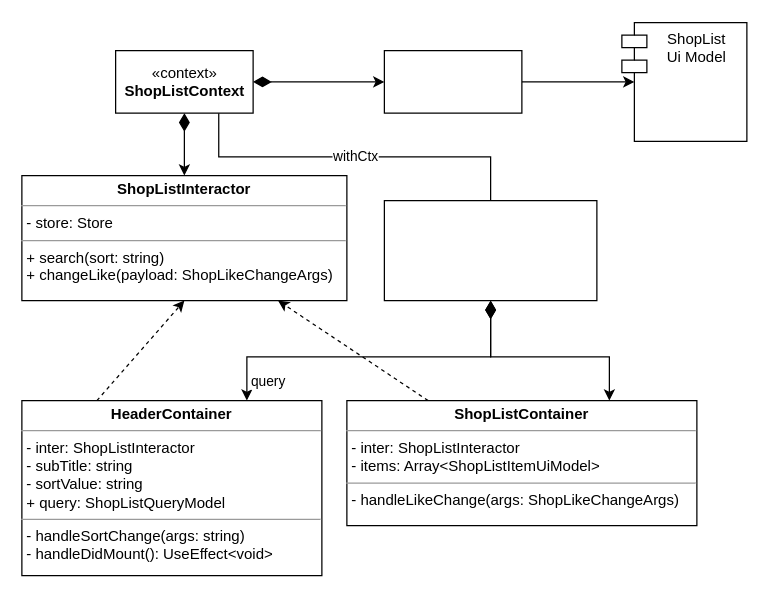
This 769x598 diagram has some shape labels left out. Each missing label, with the box of its shape:
ShopListPage - query: ShopListQueryModel - containers: ContainerList: (383, 199, 597, 301)
«interface» ShopListState: (383, 49, 522, 113)
